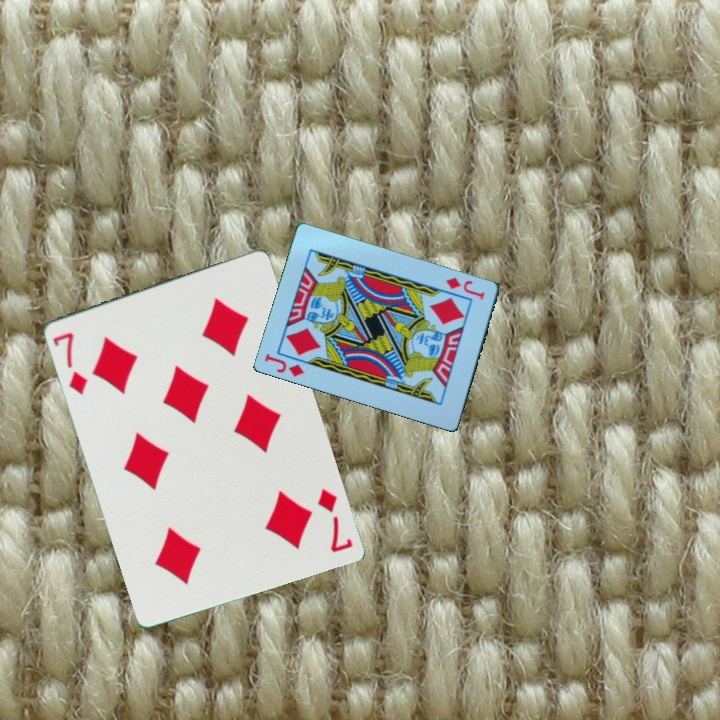7d: (313, 485, 355, 556), (49, 328, 90, 398)
Jd: (261, 349, 308, 380), (442, 273, 488, 302)
